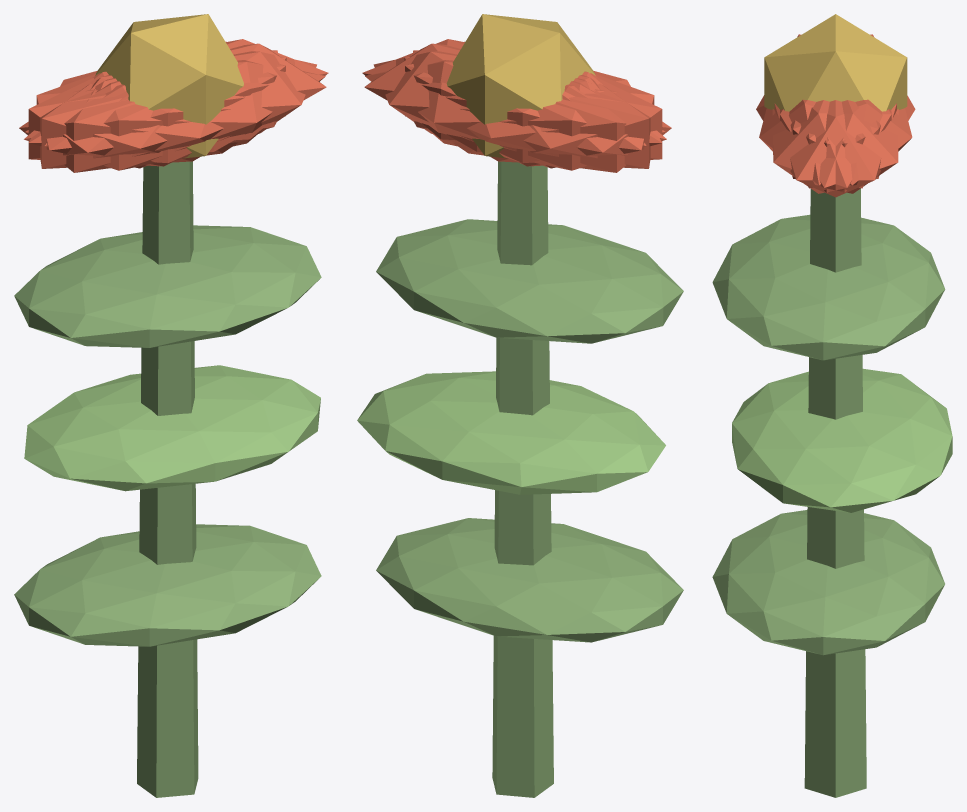
File: asystasia-gangetica.glb
The picture shows the model from 3 angles, left to right: view 1: azimuth 30°, elevation 25°; view 2: azimuth 150°, elevation 25°; view 3: azimuth 270°, elevation 25°; orthographic projection.
Parts seen in each view (by area): view 1: leaf2, leaf0, leaf1, stem, center, petal1, petal6, petal2, petal5, petal7, petal0, petal4 (+2 smaller); view 2: leaf2, leaf1, leaf0, stem, center, petal8, petal3, petal7, petal4, petal2, petal0, petal5 (+2 smaller); view 3: leaf2, leaf1, leaf0, stem, center, petal0, petal5, petal4, petal8, petal1.
Boxes of the visible parts, x1,y1,x2,y2 form: leaf2: (14,225,321,347); leaf0: (14,524,321,646); leaf1: (24,365,320,491); stem: (137,161,198,797); center: (95,14,243,158); petal1: (24,60,325,170); petal6: (19,73,237,172); petal2: (40,50,277,168); petal5: (44,51,316,162); petal7: (28,56,286,166); petal0: (95,43,326,152); petal4: (25,39,328,143); leaf2: (376,219,683,343); leaf1: (357,371,665,494); leaf0: (376,518,683,642); stem: (492,161,553,797); center: (446,14,595,158); petal8: (365,60,666,170); petal3: (453,73,671,172); petal7: (413,50,650,168); petal4: (373,51,646,162); petal2: (404,56,662,166); petal0: (364,43,595,152); petal5: (362,39,665,143); leaf2: (712,214,945,360); leaf1: (732,368,952,512); leaf0: (712,510,944,655); stem: (804,188,866,797); center: (764,14,907,111); petal0: (774,100,896,197); petal5: (772,100,891,193); petal4: (780,100,898,193); petal8: (790,99,912,185); petal1: (759,99,880,185).
Bounding box in the file's own units: 0.1452 × 0.3557 × 0.103.
